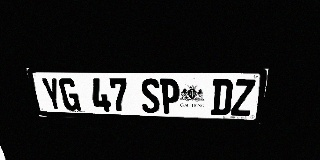4: (89, 78, 112, 112)
7: (108, 78, 130, 112)
D: (211, 79, 234, 115)
G: (58, 78, 81, 111)
P: (160, 79, 179, 114)
S: (140, 79, 160, 113)
Y: (40, 78, 64, 111)
Z: (231, 79, 256, 116)
